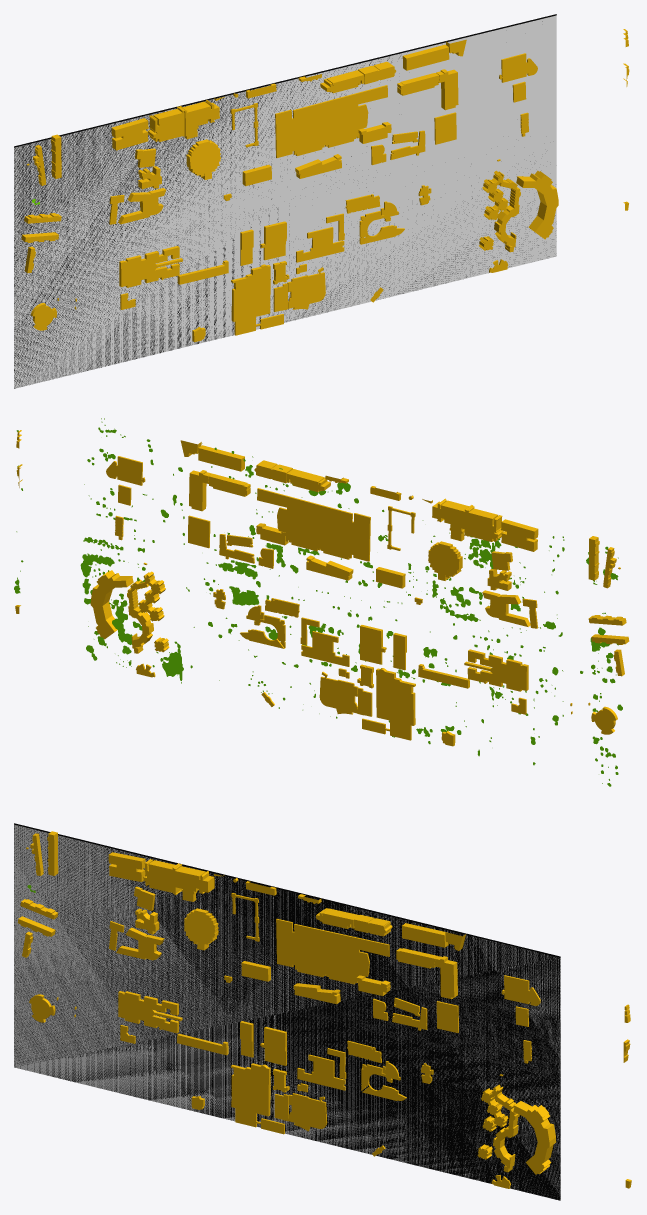
The model's file is existing_trees_04.glb.
3 renders of one model, top to bottom at view 1: azimuth 30°, elevation 25°; view 2: azimuth 150°, elevation 25°; view 3: azimuth 330°, elevation 25°, orthographic.
Visible parts, largest first — view 1: base, existing_building - Copy, Layer 04; view 2: existing_building - Copy, treesurface; view 3: Layer 04, base, existing_building - Copy.
Part boxes in pixels (x1,y1,x2,y2): base: (14,15,556,388); existing_building - Copy: (21,29,629,342); Layer 04: (14,14,556,388); existing_building - Copy: (15,430,629,746); treesurface: (14,418,622,786); Layer 04: (14,823,560,1200); base: (14,824,560,1199); existing_building - Copy: (17,831,631,1188).
Size of the model in its own units: 1127 by 431 by 20.85.
